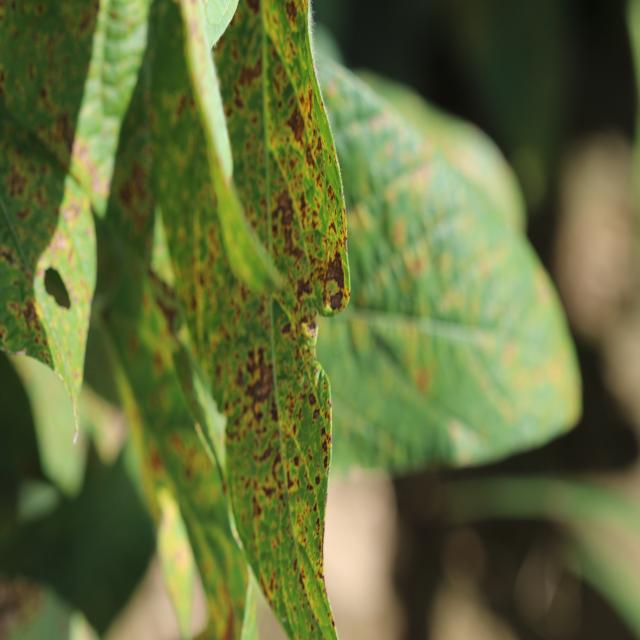Bacterial_Blight: (241, 341, 276, 412), (165, 427, 208, 484), (116, 154, 150, 220), (71, 135, 107, 196), (272, 187, 303, 257), (322, 248, 348, 308), (4, 157, 34, 201), (47, 112, 73, 155), (155, 288, 180, 331), (236, 55, 262, 91), (285, 104, 305, 144), (22, 299, 42, 333), (320, 426, 332, 463), (175, 92, 191, 119), (251, 494, 263, 519), (326, 183, 338, 206), (285, 0, 298, 21), (312, 407, 320, 420), (293, 454, 300, 468), (314, 475, 321, 486)
Soybean: (213, 0, 349, 638)
